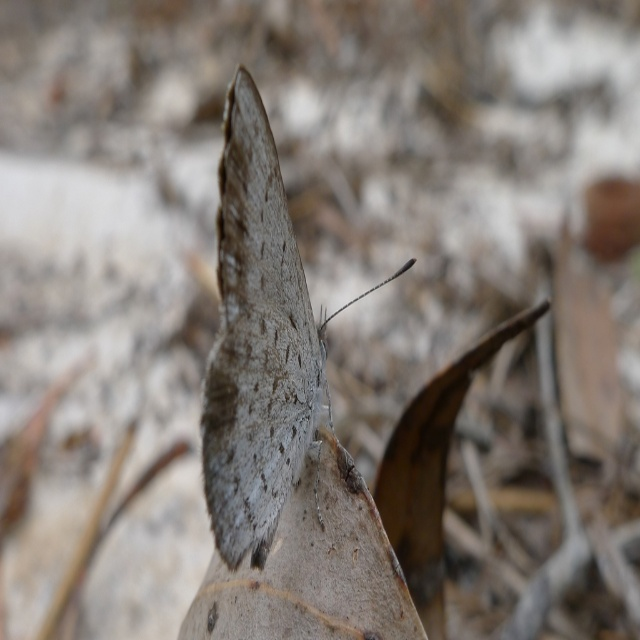Butterfly: (192, 65, 414, 596)
